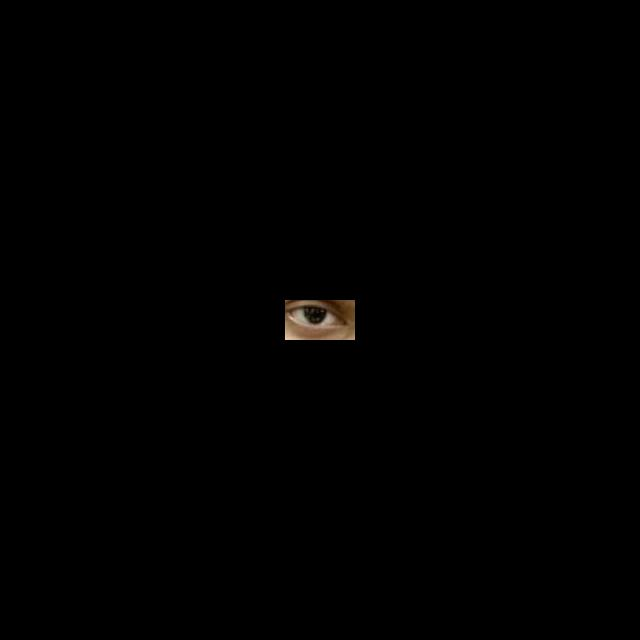eye: (291, 307, 337, 326)
iris: (303, 307, 326, 326)
